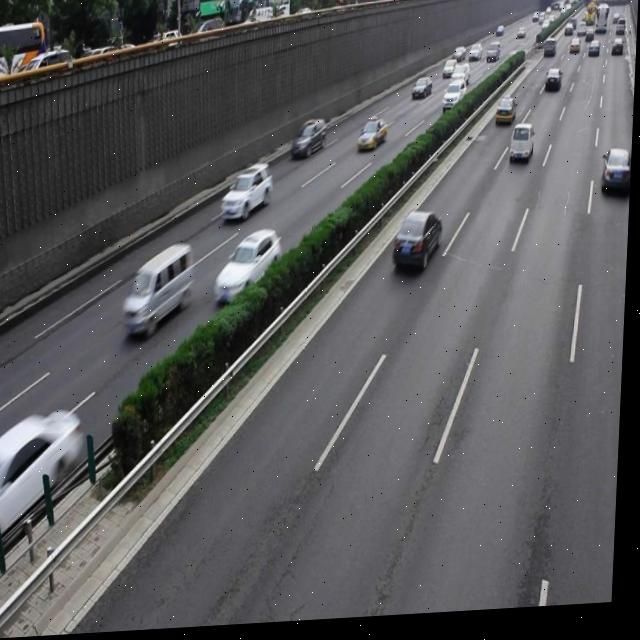car: (0, 407, 86, 549), (216, 231, 286, 310), (393, 211, 443, 278), (222, 164, 275, 225), (601, 155, 634, 205), (291, 119, 328, 163), (356, 120, 389, 155)
truck: (124, 244, 196, 341), (509, 128, 535, 169)
